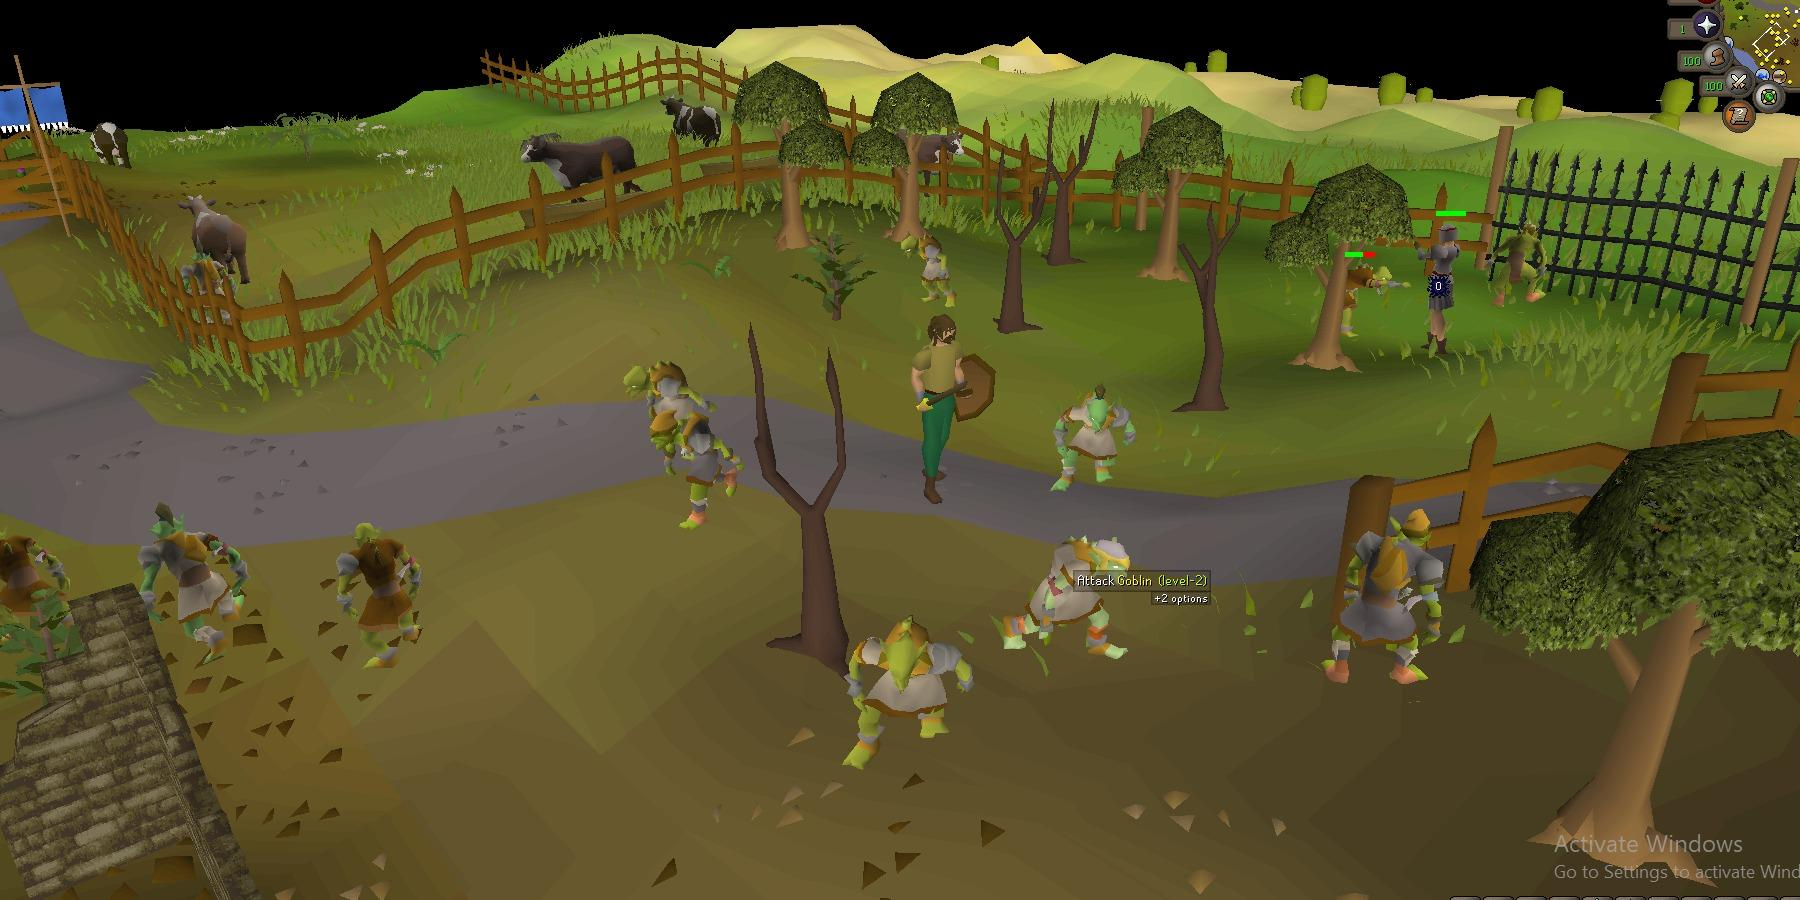goblin: (1316, 509, 1442, 690), (843, 618, 976, 773), (135, 503, 253, 664), (1003, 534, 1132, 665), (335, 522, 421, 668), (649, 411, 750, 529), (1049, 386, 1138, 499), (624, 362, 717, 461), (0, 535, 80, 641), (1321, 266, 1409, 339), (1483, 222, 1547, 309), (899, 235, 959, 311)
